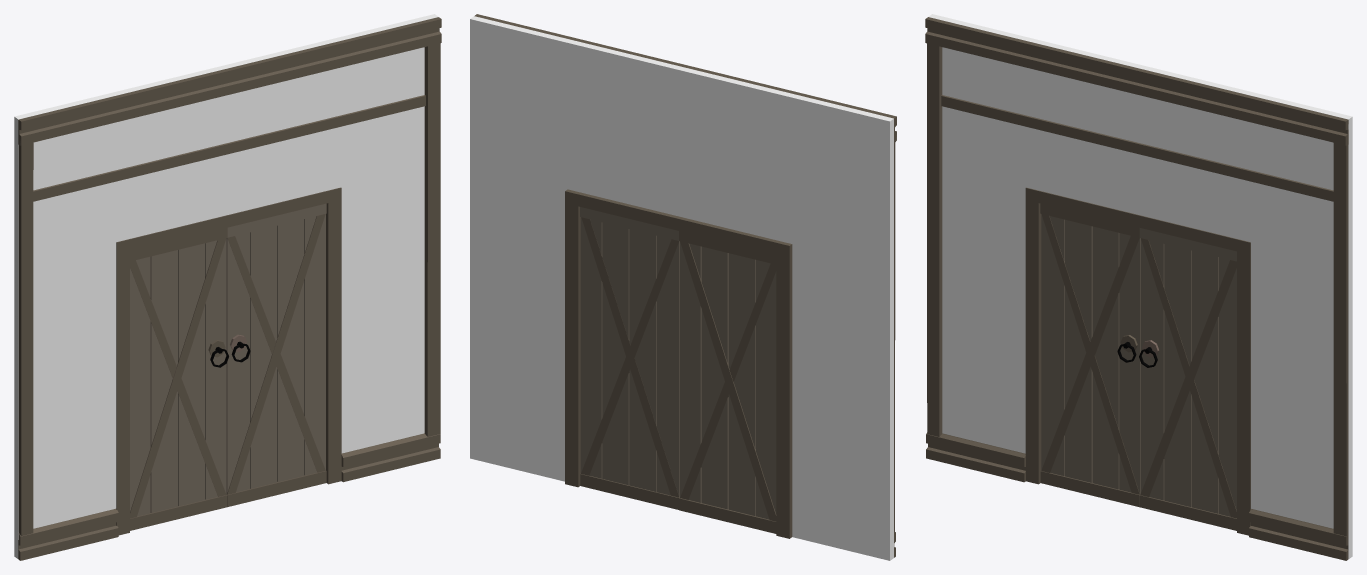
Rendered from DOOR_03_1.fbx.
The picture shows the model from 3 angles, left to right: view 1: azimuth 30°, elevation 25°; view 2: azimuth 150°, elevation 25°; view 3: azimuth 330°, elevation 25°; orthographic projection.
Visible parts, largest first — view 1: DOOR_03_1; view 2: DOOR_03_1; view 3: DOOR_03_1.
Part boxes in pixels (x1,y1,x2,y2): DOOR_03_1: [14, 14, 441, 560]; DOOR_03_1: [470, 14, 896, 560]; DOOR_03_1: [925, 14, 1352, 560].
Bounding box in the file's own units: 300 × 300 × 11.7.
